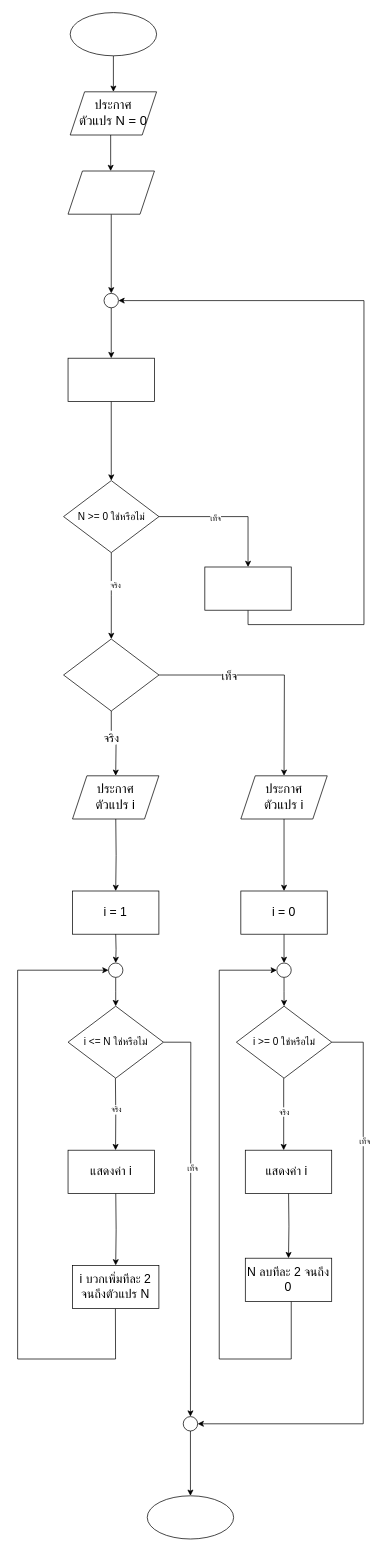
Some shapes in this 382 by 1552 pixel diagram are drawn without their labels. The shapes that lost their labels are listed below. From the top down, each one's centre as x and y in pixels, then its label:
At point (113, 34): "เริ่ม".
At point (110, 192): "ประกาศ ตัวแปร N".
At point (110, 379): "แสดงค่า N".
At point (247, 588): "แสดงข้อความ ให้ผู้ใช้พิมตัวเลข".
At point (111, 674): "N หาร 2 เหลือเศษ 1 ใช่หรือไม่".
At point (190, 1517): "จบ".
